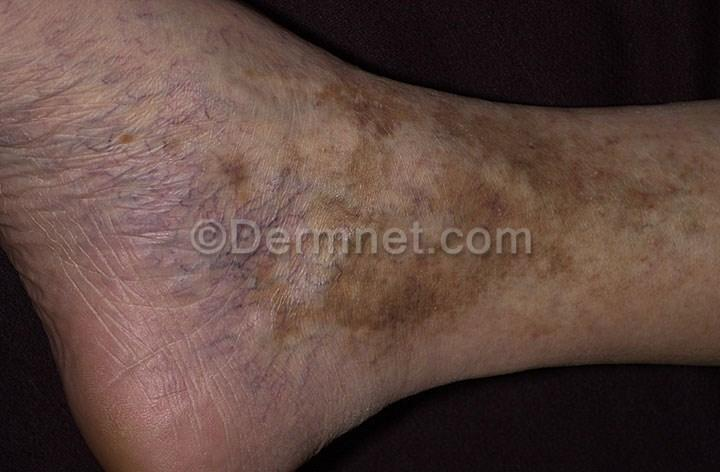Eczema: (315, 73, 425, 142), (236, 254, 321, 343), (312, 251, 385, 353), (384, 257, 463, 336), (307, 183, 384, 262), (532, 213, 608, 291), (228, 44, 308, 114), (455, 173, 528, 249), (466, 248, 540, 322), (479, 109, 553, 178), (499, 284, 576, 347), (555, 112, 617, 190), (197, 132, 265, 201), (612, 169, 675, 243), (381, 185, 451, 251), (655, 133, 718, 199), (521, 168, 606, 216), (333, 126, 404, 183), (421, 96, 483, 158), (638, 253, 713, 302), (657, 197, 716, 259), (403, 145, 474, 190), (101, 110, 154, 152)
